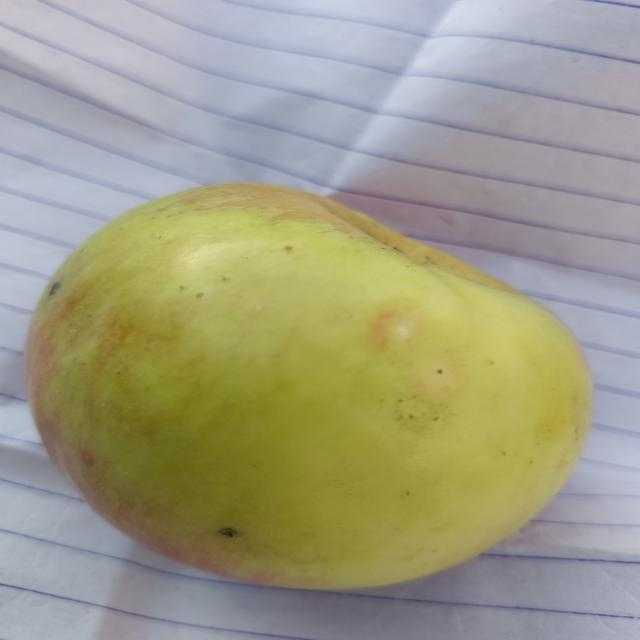Rotten: (27, 195, 595, 603)
